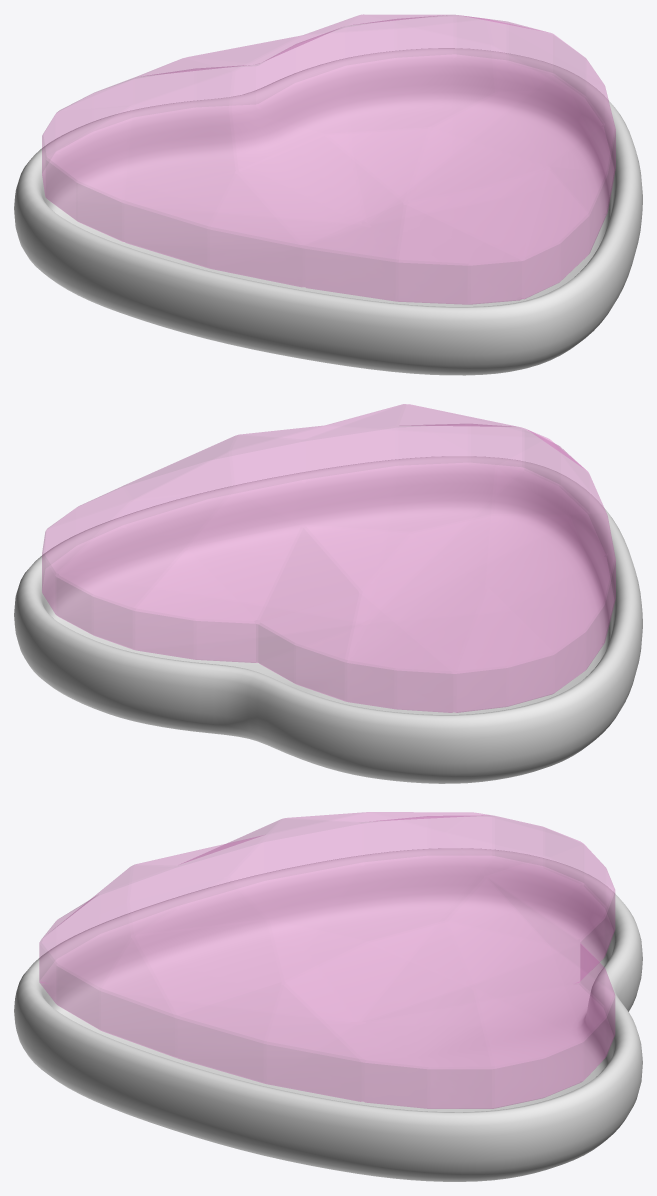
The model's file is Heart Gem.glb.
3 renders of one model, top to bottom at view 1: azimuth 30°, elevation 25°; view 2: azimuth 150°, elevation 25°; view 3: azimuth 270°, elevation 25°, orthographic.
Parts seen in each view (by area): view 1: Gem_Heart|Gem_Heart_Mount.obj|Dupli|1_Metal_Heart_0, Gem_Heart|Gem_Heart.obj|Dupli|_Gem_Heart_0; view 2: Gem_Heart|Gem_Heart_Mount.obj|Dupli|1_Metal_Heart_0, Gem_Heart|Gem_Heart.obj|Dupli|_Gem_Heart_0; view 3: Gem_Heart|Gem_Heart_Mount.obj|Dupli|1_Metal_Heart_0, Gem_Heart|Gem_Heart.obj|Dupli|_Gem_Heart_0.
Part boxes in pixels (x1,y1,x2,y2): Gem_Heart|Gem_Heart_Mount.obj|Dupli|1_Metal_Heart_0: (14, 48, 642, 375); Gem_Heart|Gem_Heart.obj|Dupli|_Gem_Heart_0: (42, 14, 615, 304); Gem_Heart|Gem_Heart_Mount.obj|Dupli|1_Metal_Heart_0: (14, 456, 642, 783); Gem_Heart|Gem_Heart.obj|Dupli|_Gem_Heart_0: (42, 404, 615, 712); Gem_Heart|Gem_Heart_Mount.obj|Dupli|1_Metal_Heart_0: (14, 848, 642, 1181); Gem_Heart|Gem_Heart.obj|Dupli|_Gem_Heart_0: (39, 812, 614, 1108).
Bounding box in the file's own units: 1.97 × 0.6995 × 1.89.
